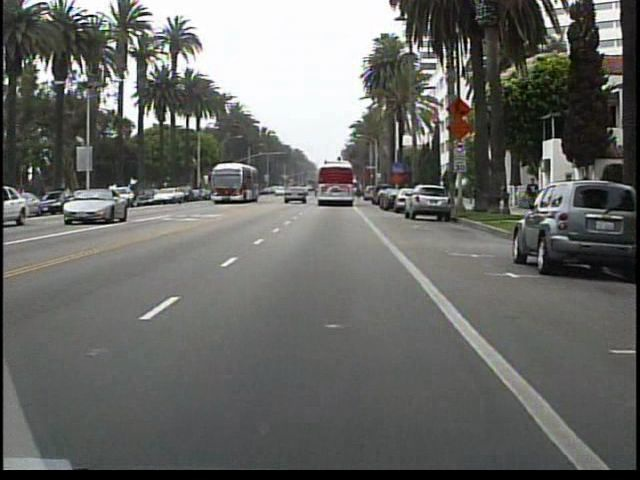person: (521, 172, 543, 223)
